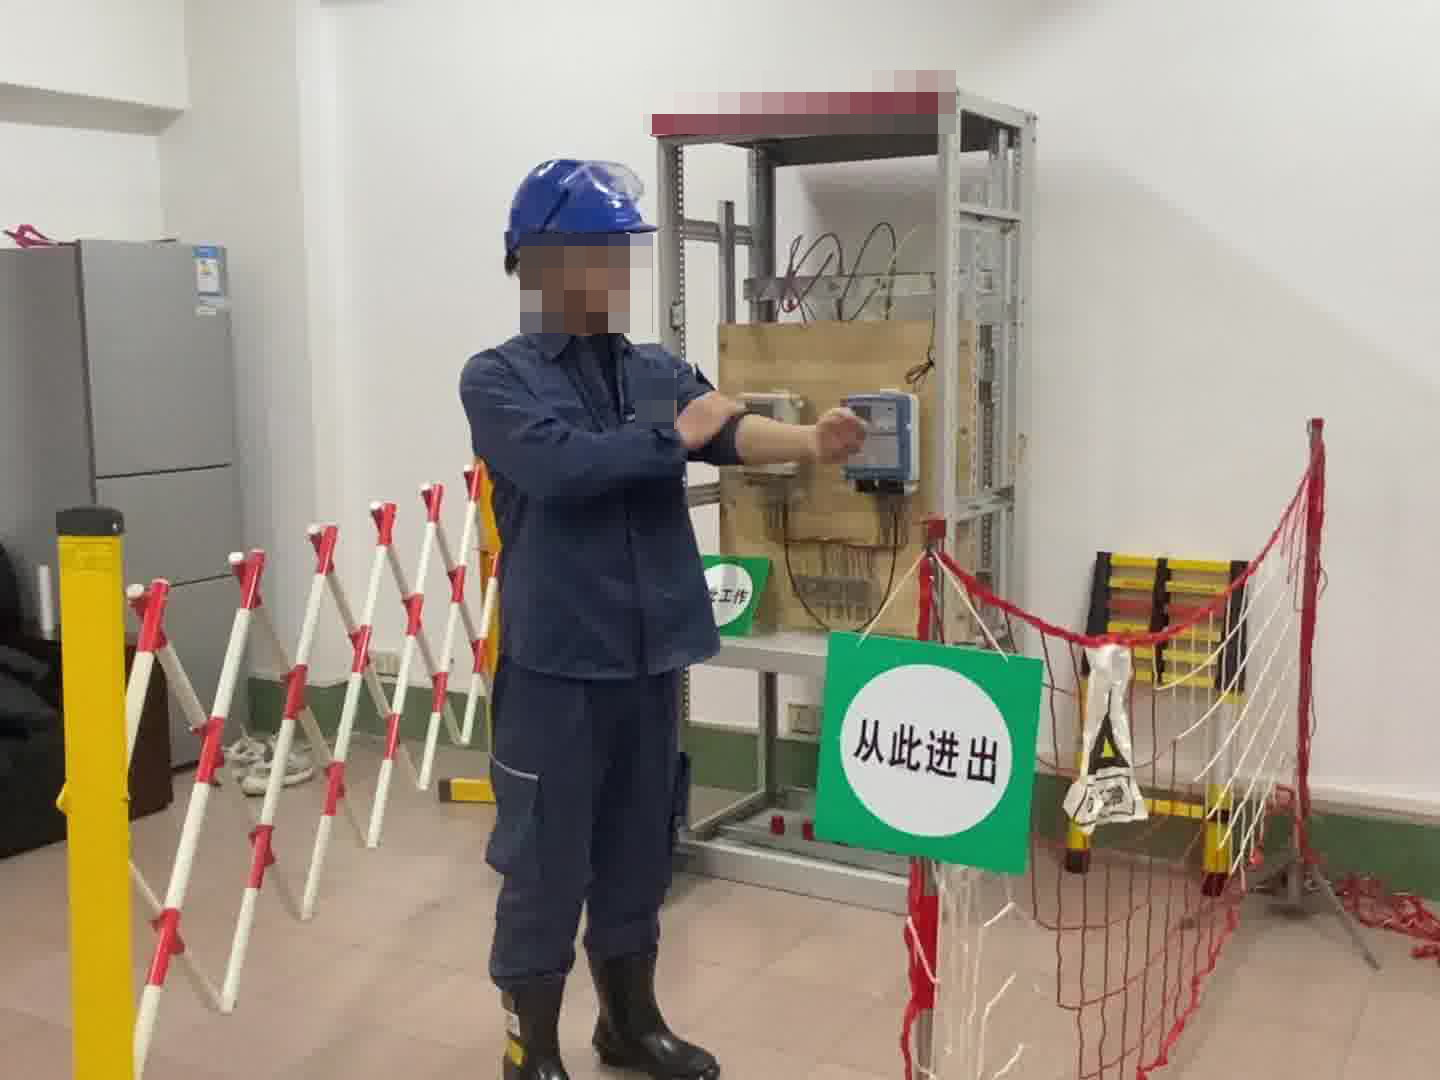downsuit: (481, 665, 688, 974)
halt: (502, 154, 655, 329)
hand: (673, 385, 745, 447), (812, 403, 869, 465)
inear: (522, 237, 588, 315)
intosign: (813, 625, 1043, 877)
person: (455, 150, 743, 1080)
shoe: (497, 979, 721, 1080)
upsuit: (458, 308, 743, 674)
worksign: (698, 550, 773, 638)
wrongtop: (719, 405, 869, 466)
